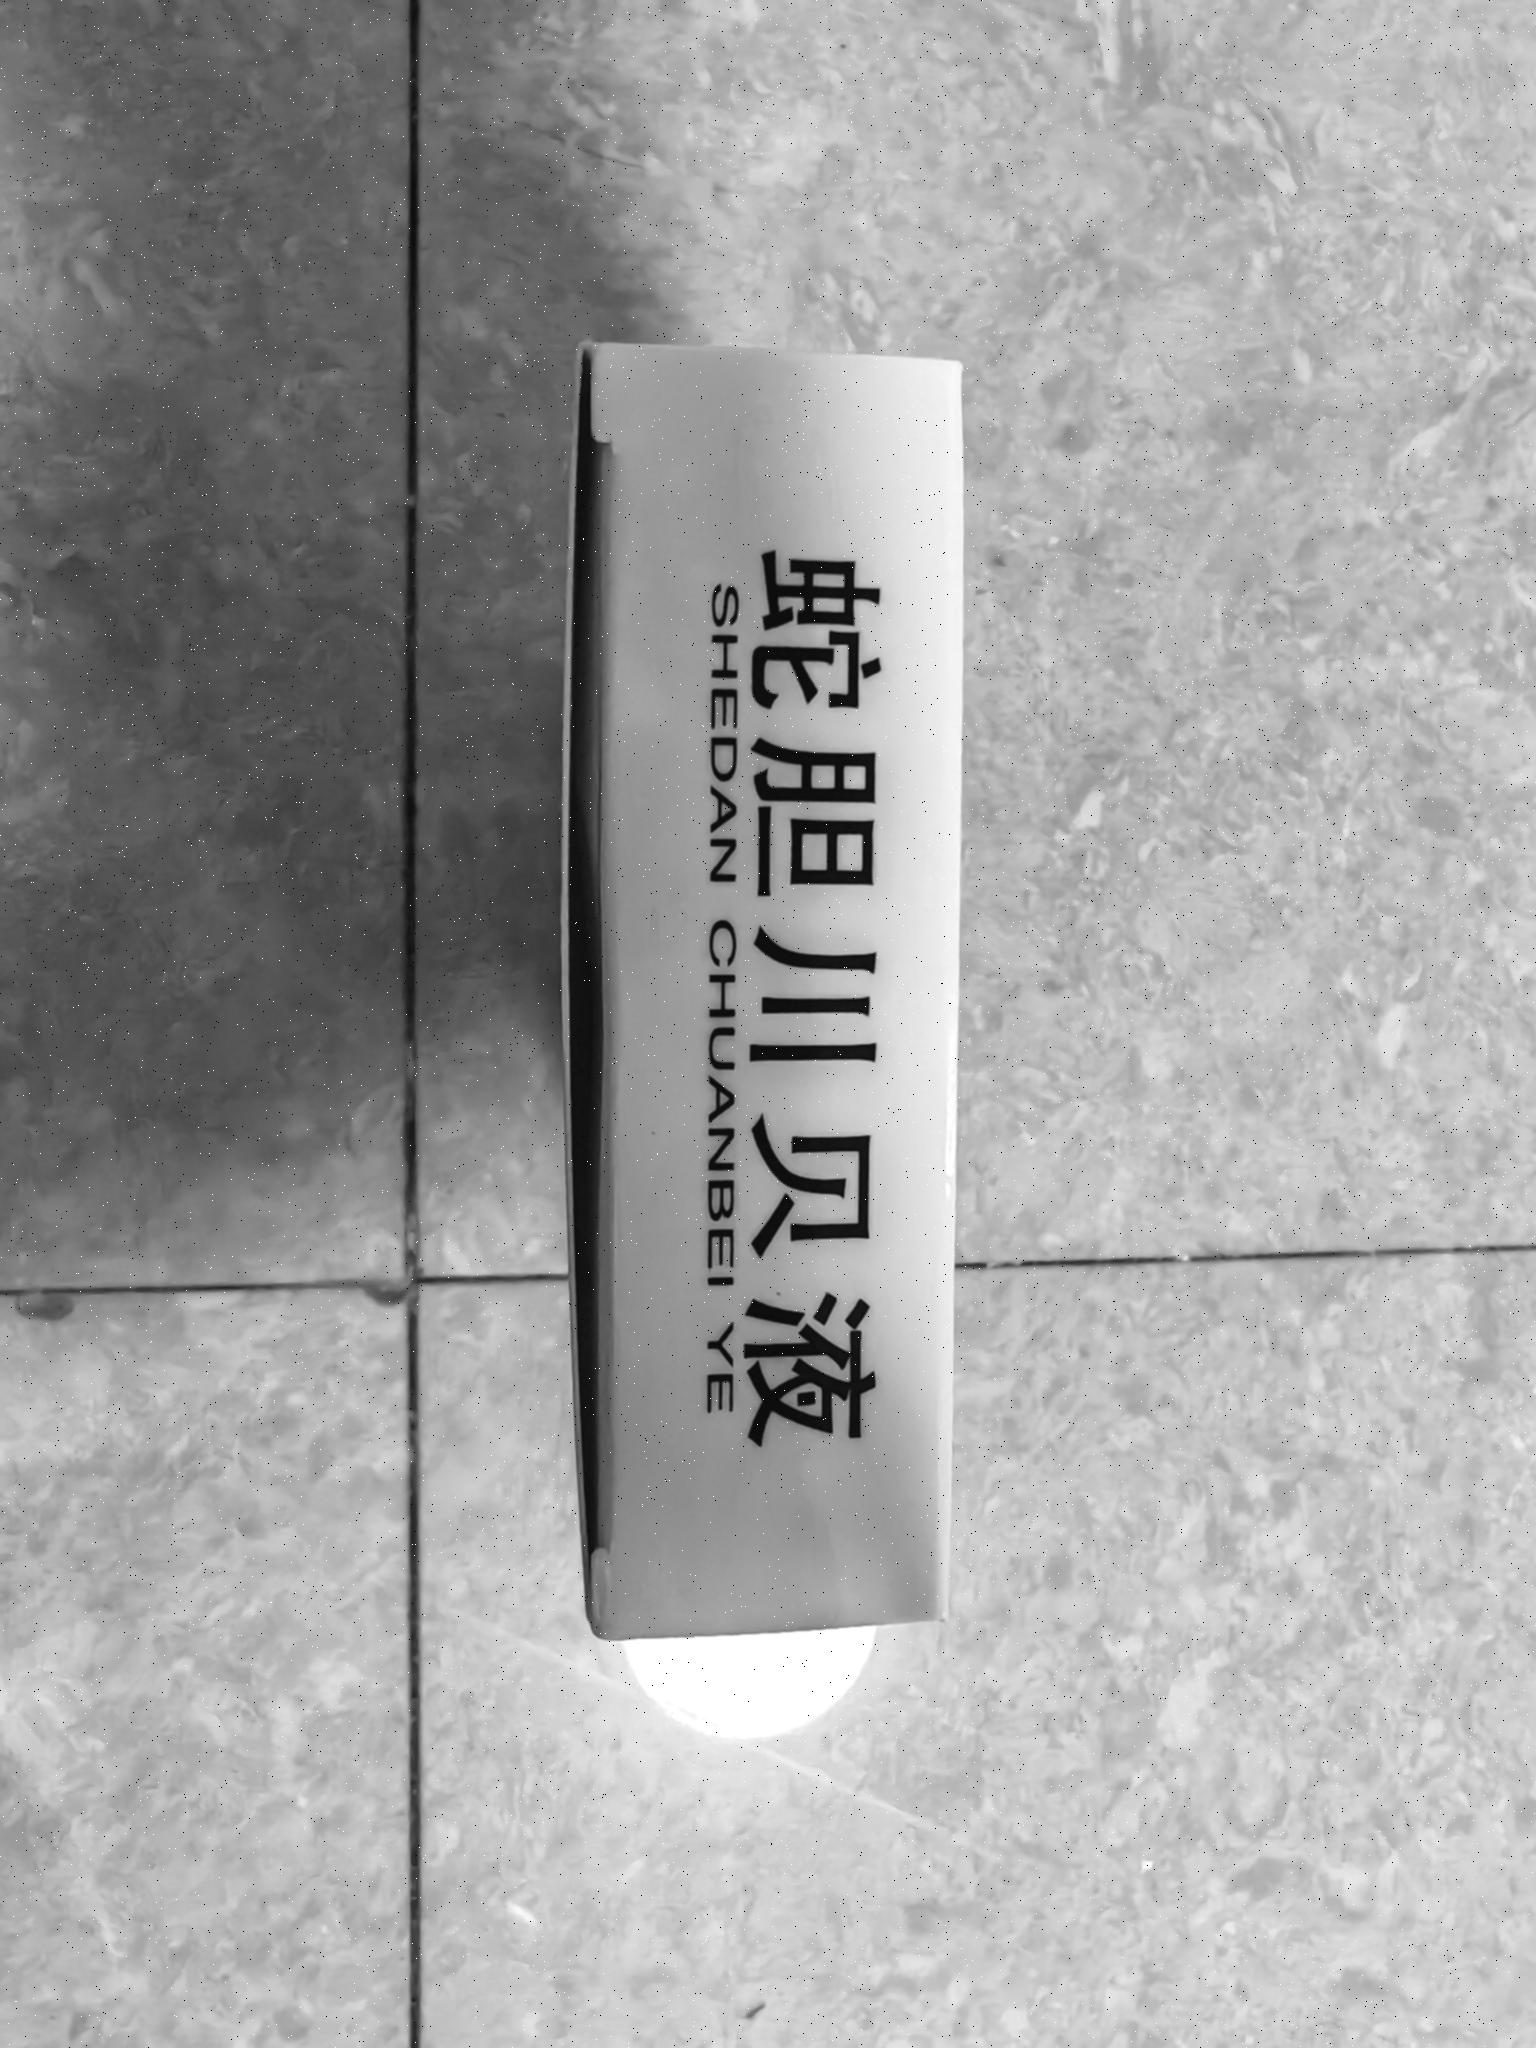Medicine5: (541, 316, 1018, 1682)
